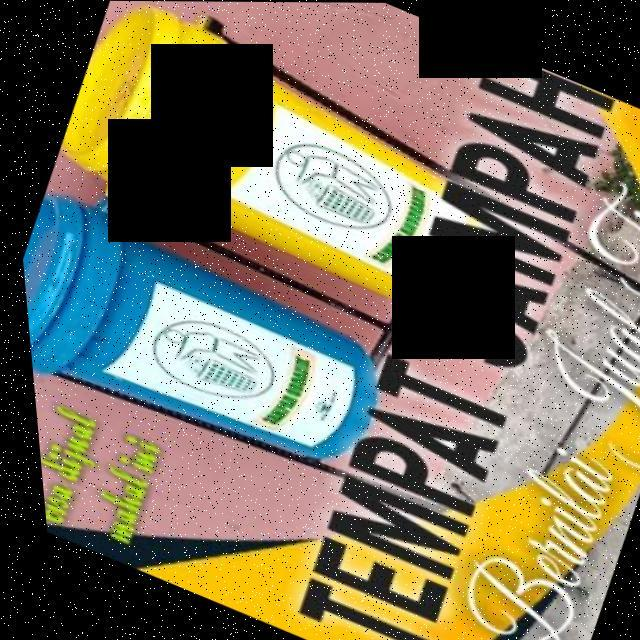bin: (35, 0, 521, 336), (13, 181, 411, 513)
